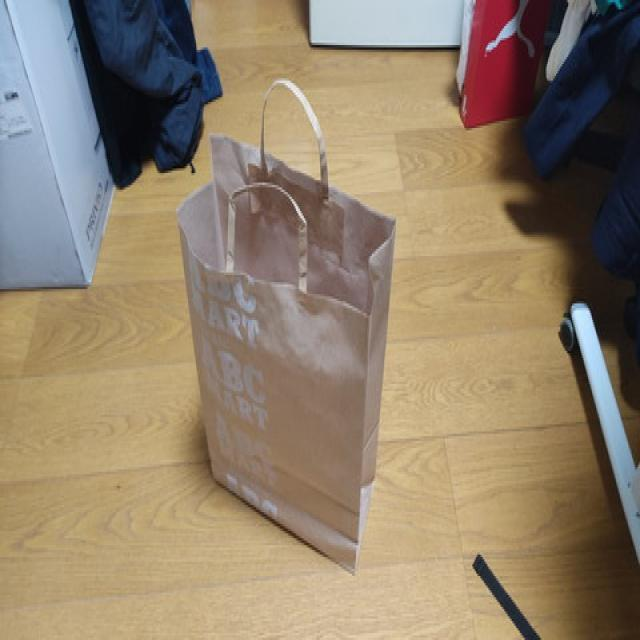paper bag: (174, 73, 397, 585)
